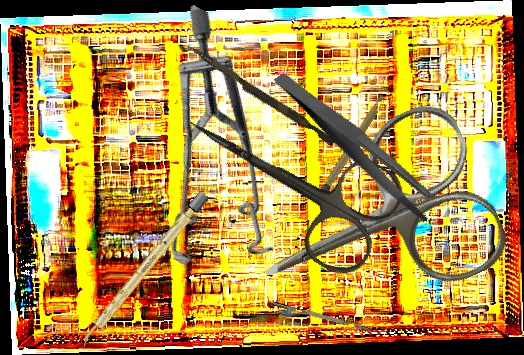Chopper: (272, 295, 388, 338)
Dressing Forceps: (273, 41, 442, 249)
Iris Scissors: (229, 94, 516, 353), (162, 70, 412, 285)
Pusher: (183, 43, 338, 147)
Scalpel Handle: (77, 190, 210, 350), (317, 92, 389, 199)
Speculum: (81, 3, 357, 299)
